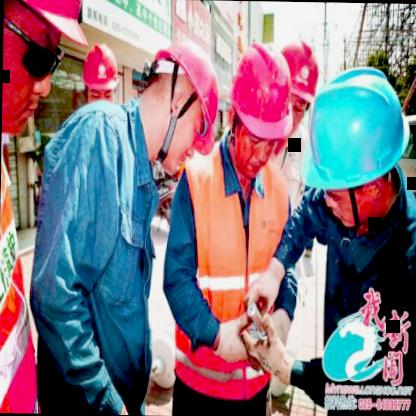helmet: (301, 48, 412, 236), (1, 0, 88, 142), (224, 40, 294, 182), (139, 42, 208, 169), (278, 33, 319, 143), (78, 39, 122, 108)
